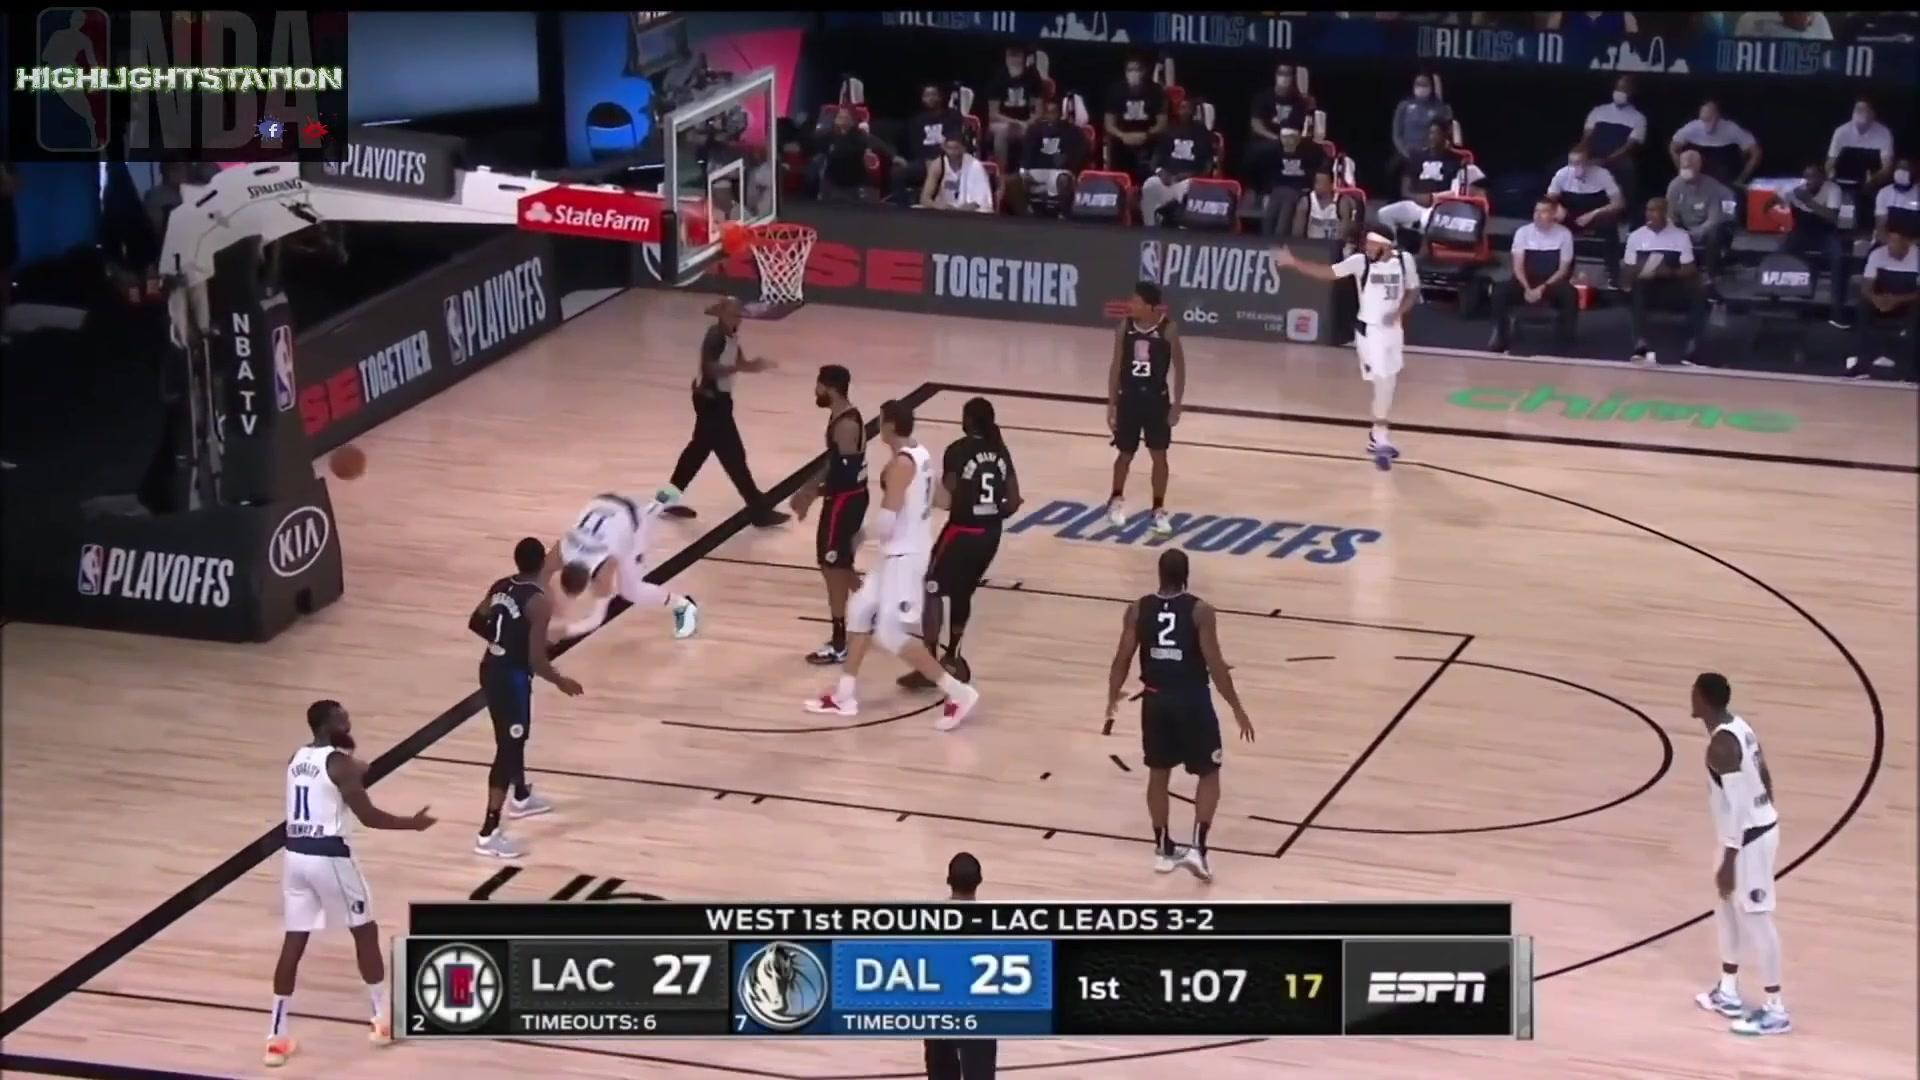no_foul: (848, 394, 1079, 711)
